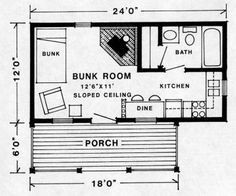door: (95, 112, 116, 121)
room: (36, 29, 133, 118), (139, 26, 222, 67), (135, 71, 205, 96), (124, 100, 165, 115)
wall: (92, 21, 224, 27), (28, 21, 35, 126), (155, 114, 228, 121), (32, 21, 77, 28), (222, 21, 227, 79), (136, 25, 142, 70), (186, 66, 225, 71), (138, 66, 165, 73), (221, 95, 228, 121), (156, 26, 164, 46), (73, 117, 94, 123), (204, 71, 208, 97), (33, 118, 53, 123), (116, 117, 137, 121)
window: (54, 118, 72, 124), (137, 117, 155, 122), (77, 22, 90, 28)
